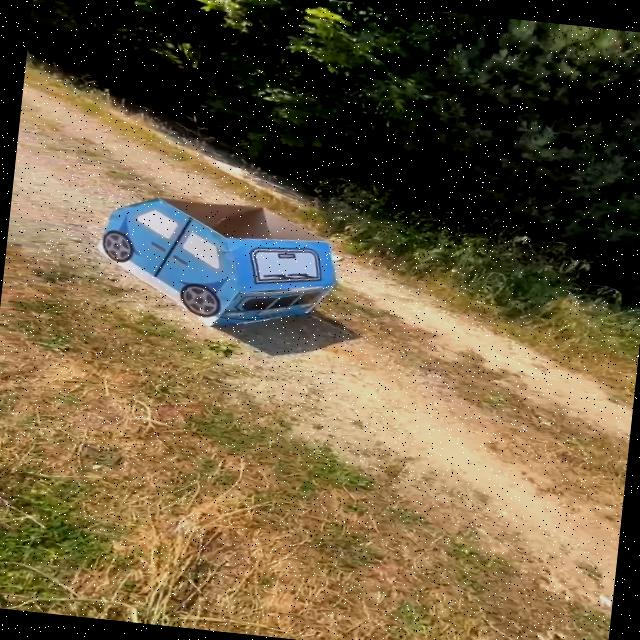blue_car: (84, 159, 359, 349)
